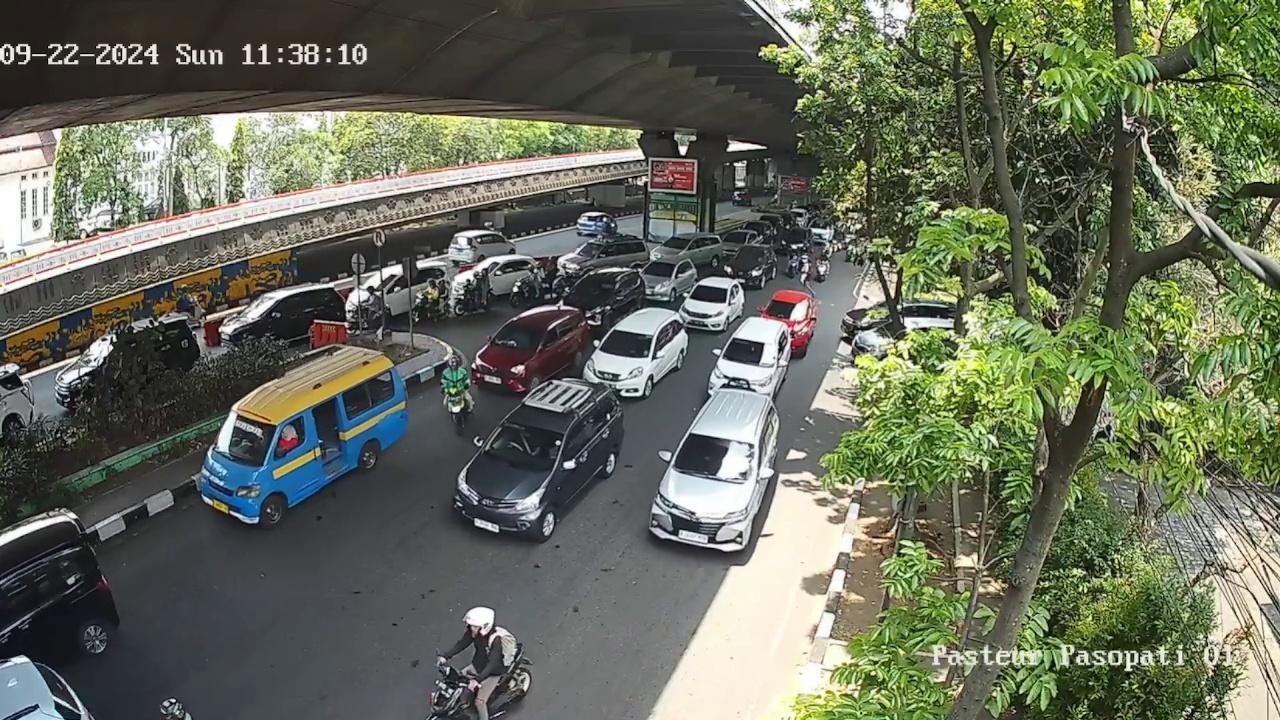pakai: (511, 427, 538, 456)
tidak-pakai: (508, 331, 530, 346)
windshield: (670, 429, 757, 481), (483, 420, 567, 469), (215, 412, 279, 462), (492, 319, 546, 356), (724, 338, 780, 366), (599, 329, 652, 355), (764, 300, 807, 320), (691, 285, 732, 302), (642, 261, 677, 279), (734, 248, 767, 263)
